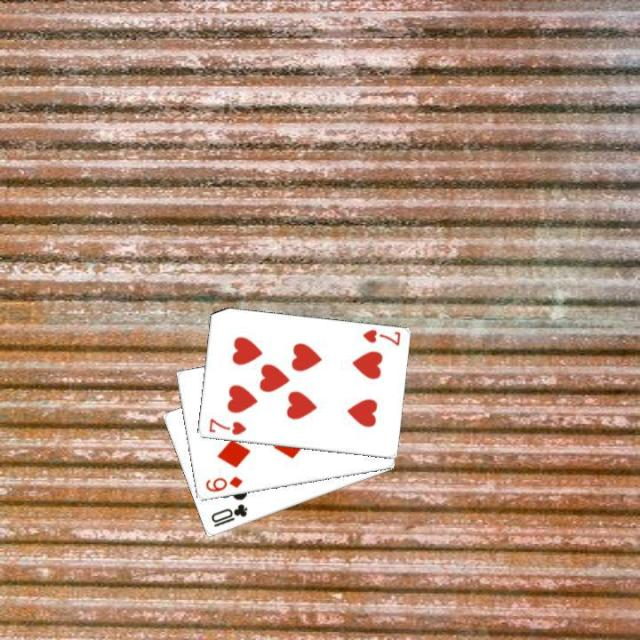10C: (207, 500, 250, 529)
6D: (201, 473, 244, 494)
7H: (204, 414, 248, 438), (358, 326, 402, 348)
